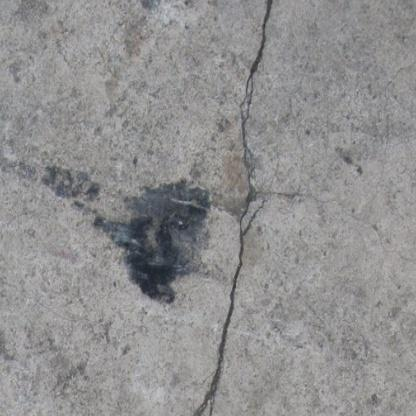Cracks: (191, 0, 279, 416)
